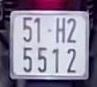1: (52, 46, 61, 76), (34, 16, 42, 44)
2: (64, 48, 78, 76), (67, 16, 78, 45)
5: (21, 16, 33, 43), (22, 46, 34, 73), (37, 47, 47, 74)
H: (54, 17, 66, 46)
